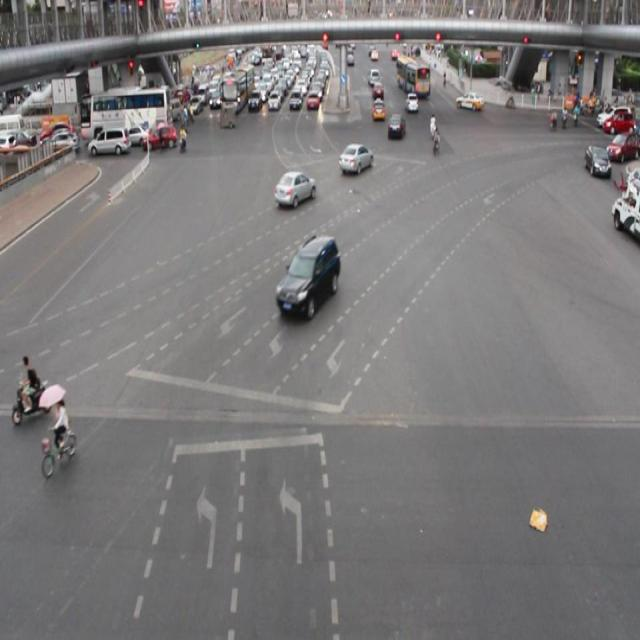car: (274, 234, 340, 324), (272, 168, 316, 210), (338, 141, 373, 178)
